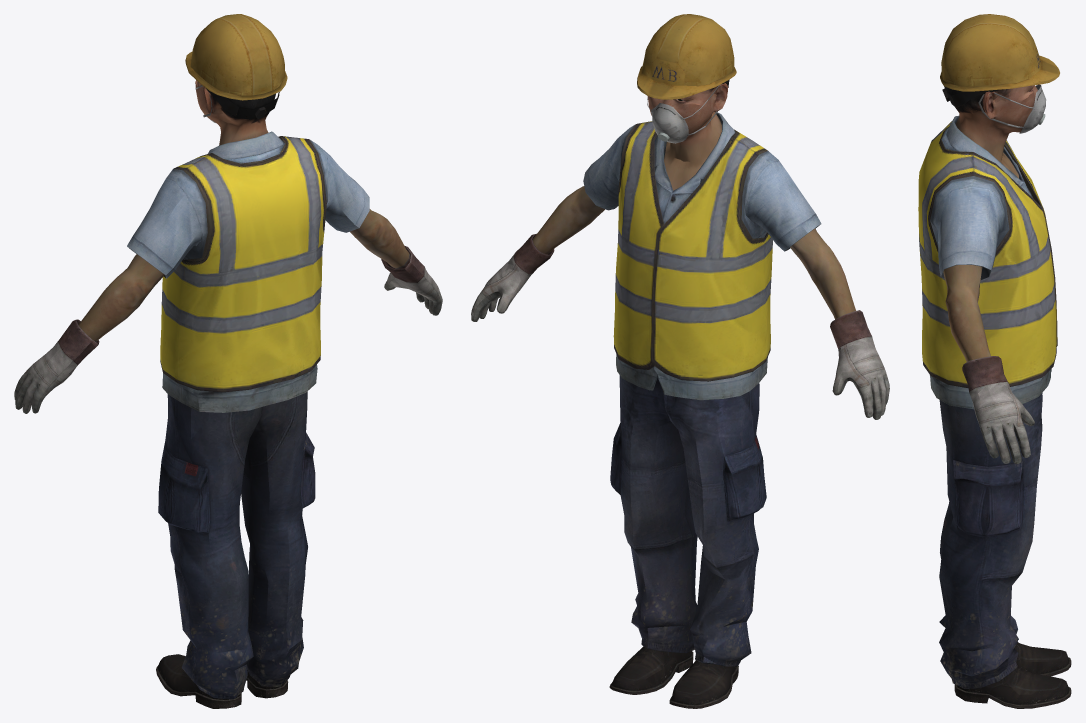
Rendered from a_chinese_worker.gltf.
3 renders of one model, left to right at view 1: azimuth 30°, elevation 25°; view 2: azimuth 150°, elevation 25°; view 3: azimuth 270°, elevation 25°, orthographic. The views are drawn at different scales.
Parts seen in each view (by area): view 1: skfb_offset; view 2: skfb_offset; view 3: skfb_offset.
Part boxes in pixels (box(x1,y1,x2,y2)): skfb_offset: box(14, 14, 442, 708); skfb_offset: box(471, 14, 889, 708); skfb_offset: box(918, 14, 1071, 708).
Bounding box in the file's own units: 11571 × 17772 × 3703.
3 materials, 3 textured.
